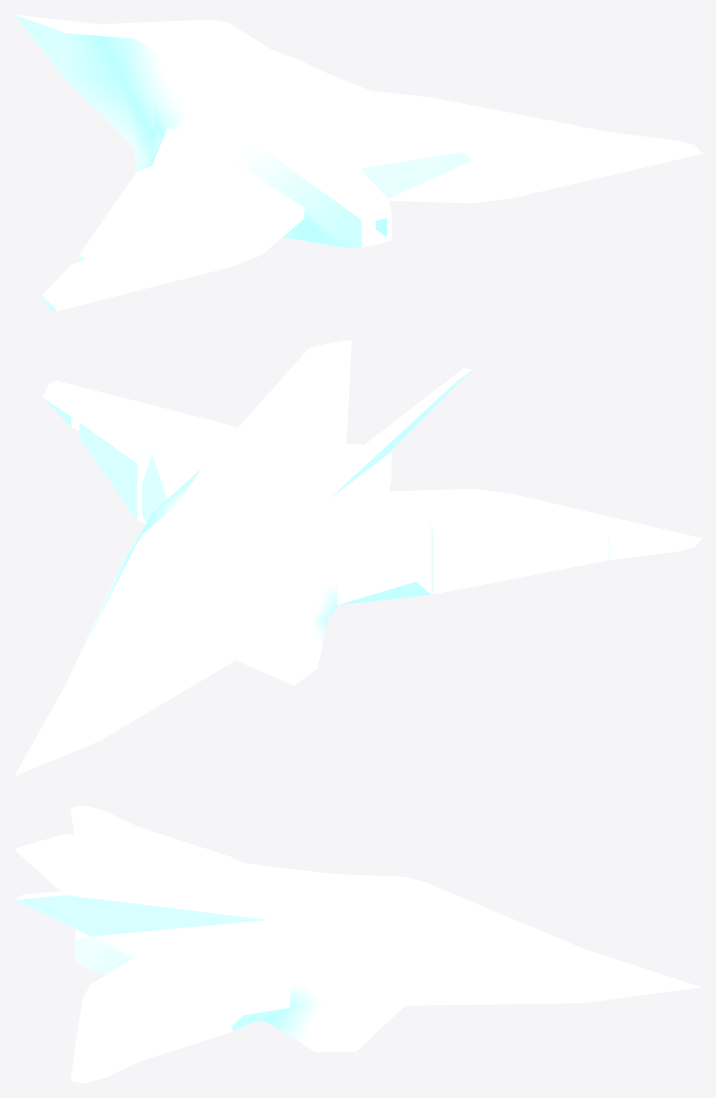
File: ship.glb
3 views of the same model, one above another, from view 1: azimuth 30°, elevation 25°; view 2: azimuth 150°, elevation 25°; view 3: azimuth 270°, elevation 25° (orthographic). The views are drawn at different scales.
Visible parts, largest first — view 1: Hedra001; view 2: Hedra001; view 3: Hedra001.
Part boxes in pixels (left/top/right/bottom): Hedra001: left=14, top=14, right=701, bottom=311; Hedra001: left=14, top=340, right=701, bottom=776; Hedra001: left=14, top=805, right=701, bottom=1083.
Size of the model in its own units: 25.15 by 6.66 by 26.86.
Materials: 1 (1 with a texture image).
